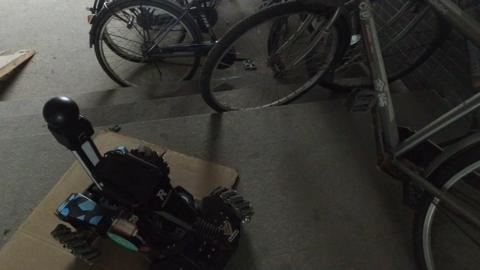chariot: (33, 92, 262, 269)
